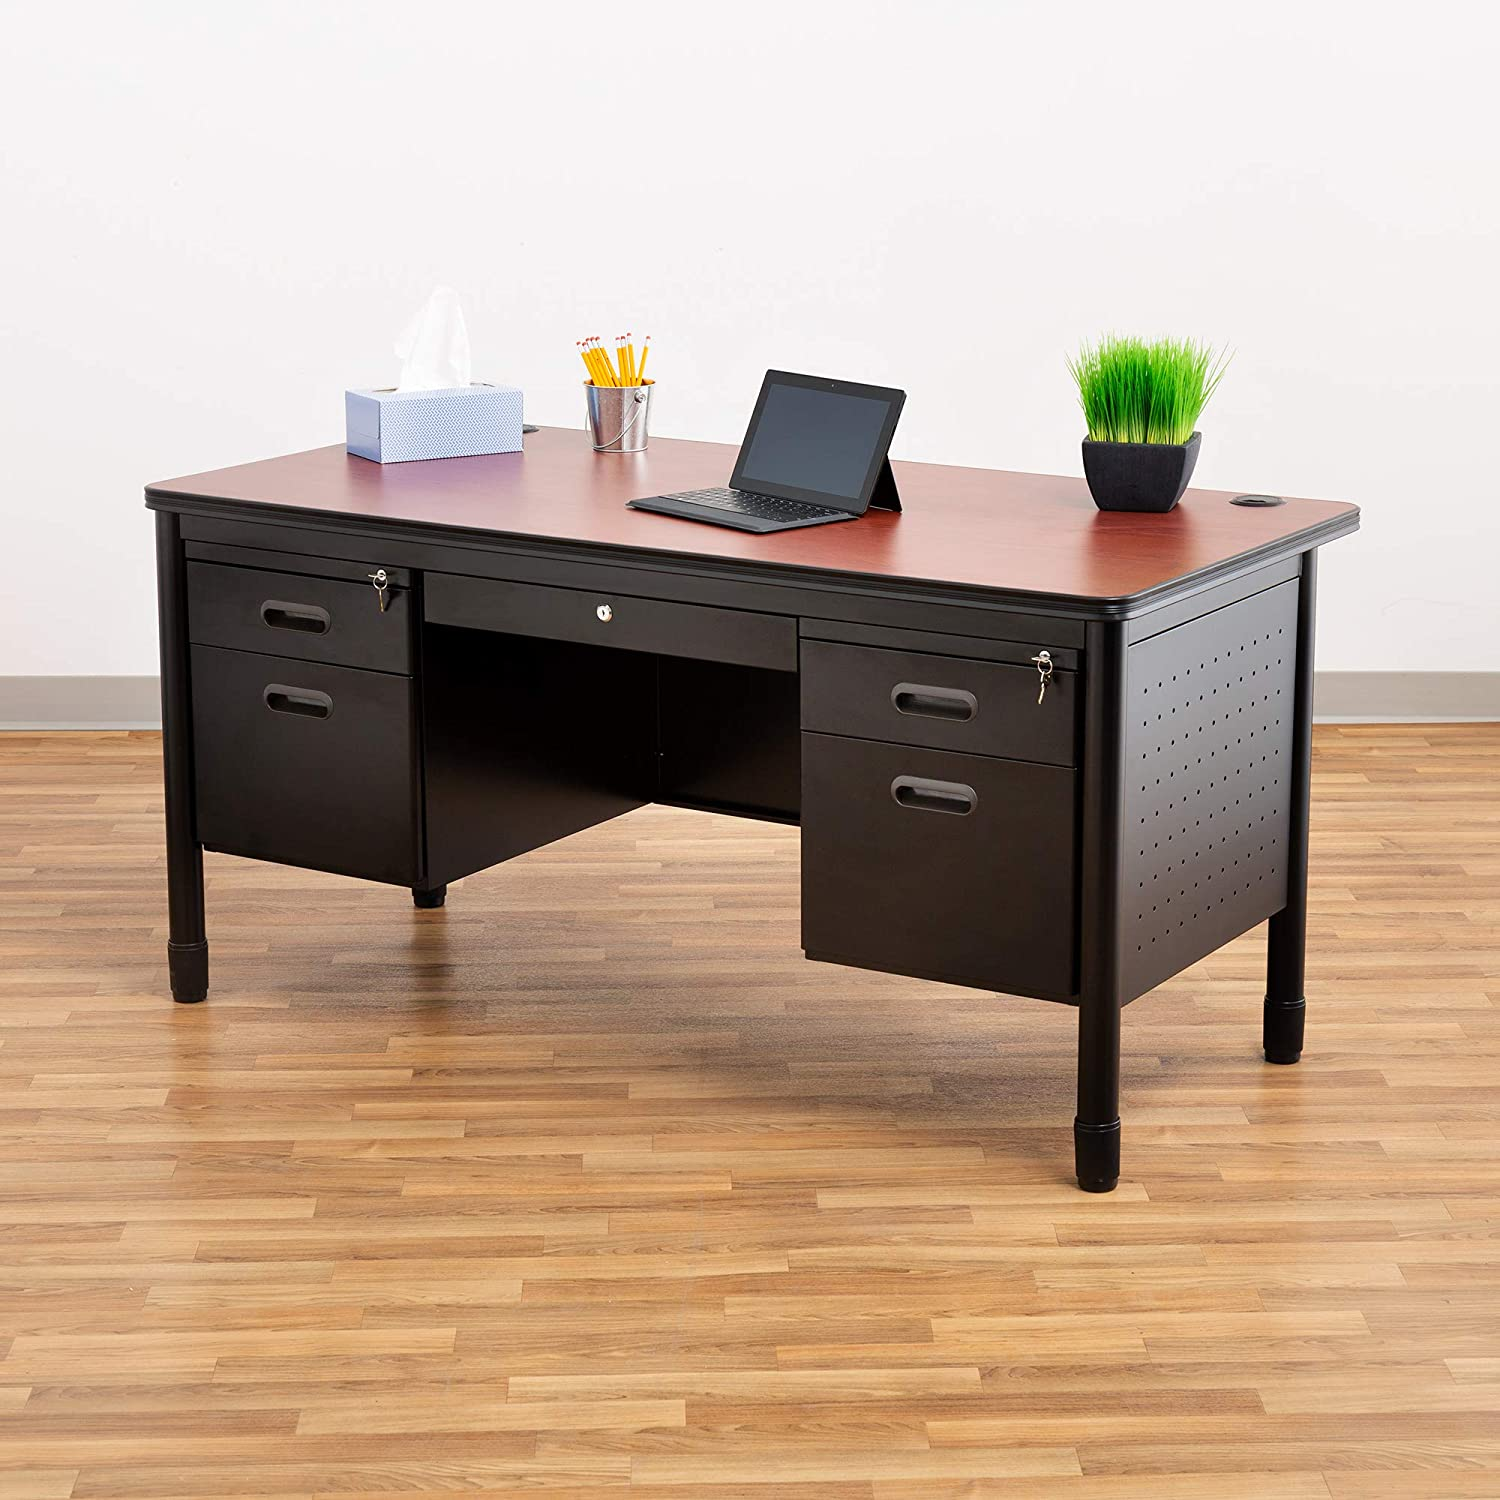desk_081.jpg: (115, 299, 1378, 1207)
